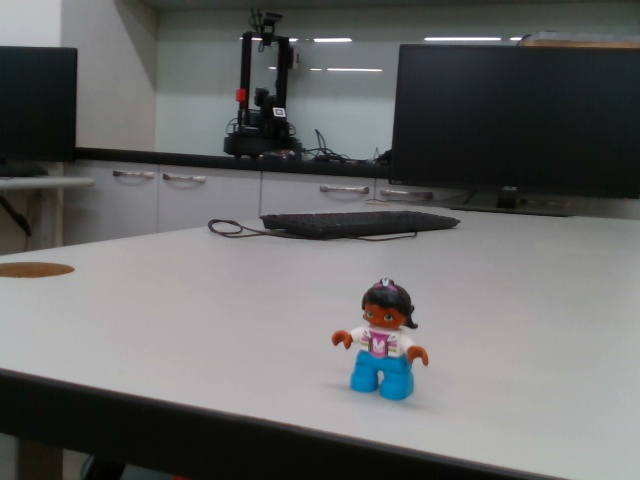people: (328, 278, 431, 406)
